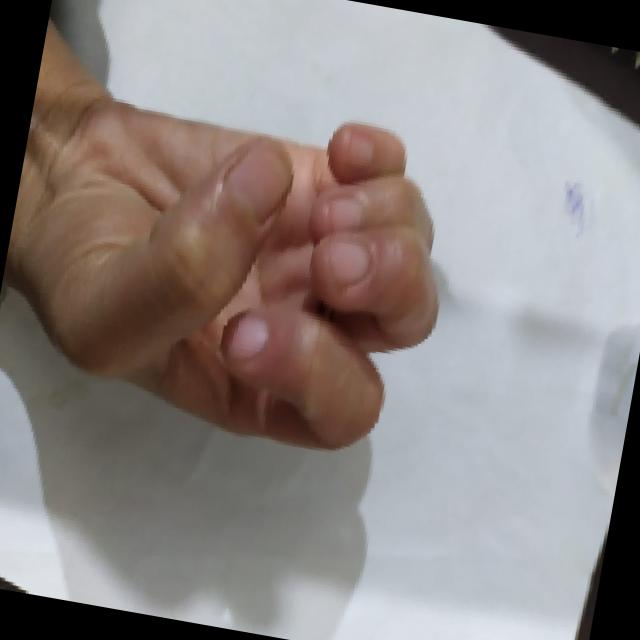Nail: (225, 139, 292, 223), (228, 313, 269, 359), (329, 241, 369, 283), (328, 197, 360, 231), (347, 130, 373, 166)
